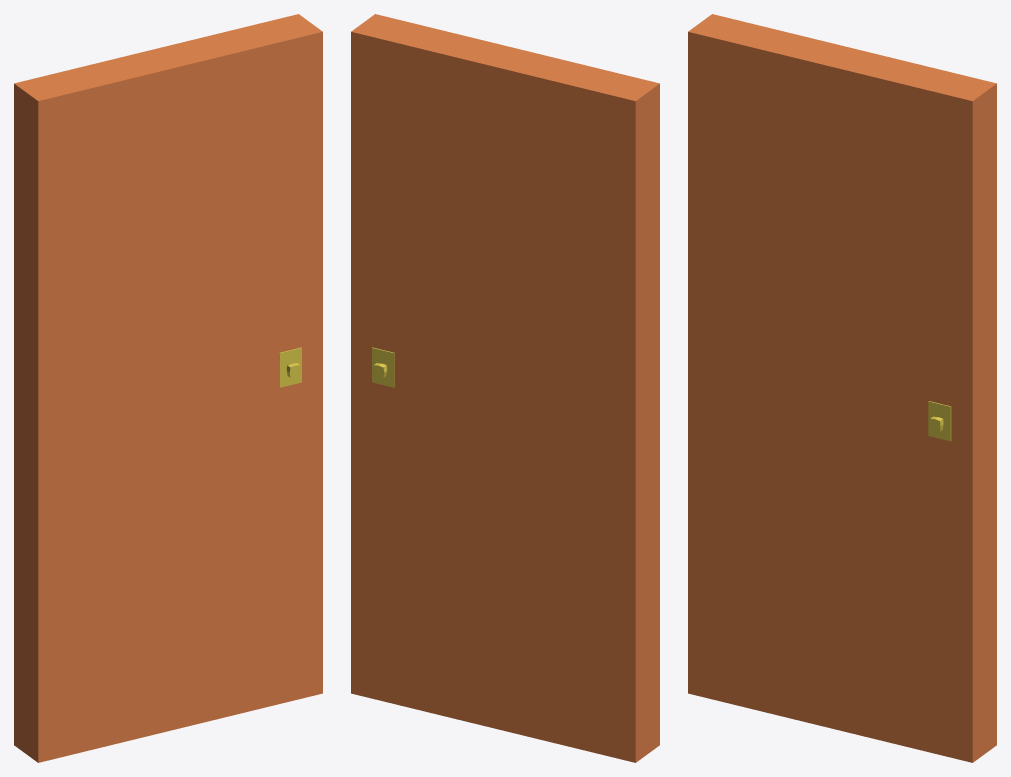
File: DoorLeft.fbx
The picture shows the model from 3 angles, left to right: view 1: azimuth 30°, elevation 25°; view 2: azimuth 150°, elevation 25°; view 3: azimuth 330°, elevation 25°; orthographic projection.
Visible parts, largest first — view 1: Door_Left; view 2: Door_Left; view 3: Door_Left.
Part boxes in pixels (left/top/right/bottom): Door_Left: left=14, top=14, right=322, bottom=762; Door_Left: left=351, top=14, right=659, bottom=762; Door_Left: left=688, top=14, right=996, bottom=762.
Size of the model in its own units: 0.9002 by 0.1875 by 2.
